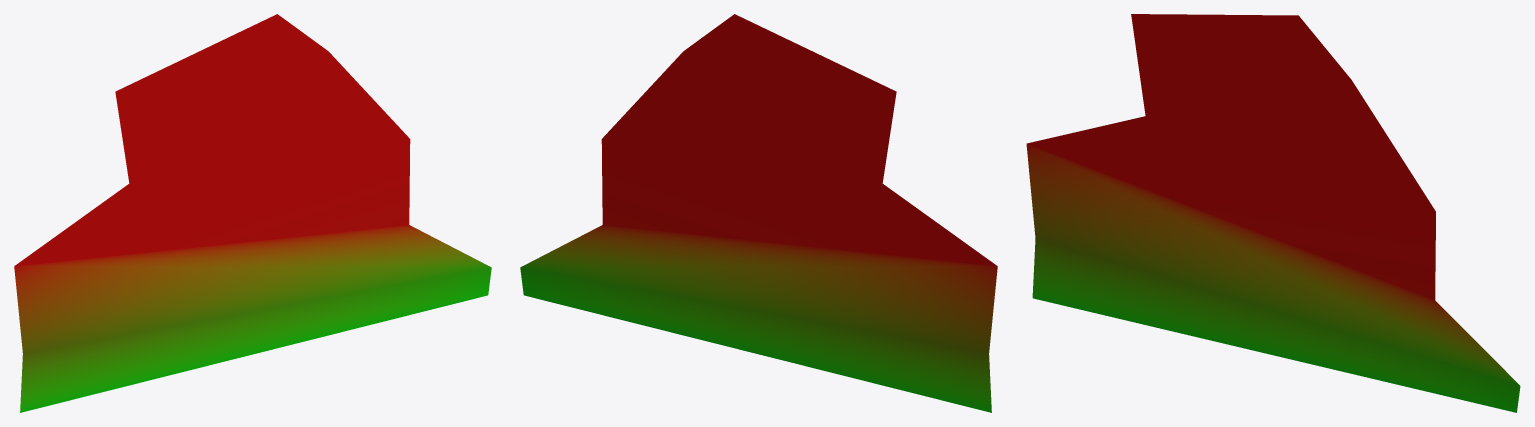
Rendered from Rubber Bush_LOD7_Var11_xffhfekia.fbx.
The picture shows the model from 3 angles, left to right: view 1: azimuth 30°, elevation 25°; view 2: azimuth 150°, elevation 25°; view 3: azimuth 330°, elevation 25°; orthographic projection. The views are drawn at different scales.
Visible parts, largest first — view 1: _575q_Var11_LOD7; view 2: _575q_Var11_LOD7; view 3: _575q_Var11_LOD7.
Boxes of the visible parts, x1=… form: _575q_Var11_LOD7: x1=14, y1=14, x2=491, y2=412; _575q_Var11_LOD7: x1=520, y1=14, x2=997, y2=412; _575q_Var11_LOD7: x1=1026, y1=14, x2=1520, y2=412.
Size of the model in its own units: 209 by 141 by 1.91e-05.
